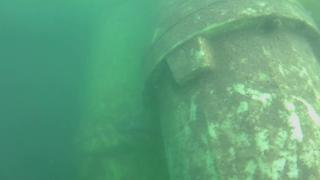pipe: (139, 1, 320, 180), (77, 1, 168, 180)
